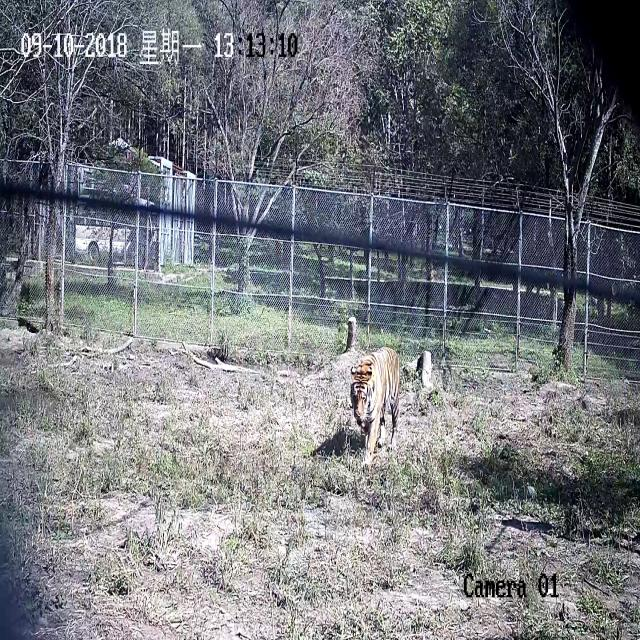Tiger: (304, 292, 438, 512)
